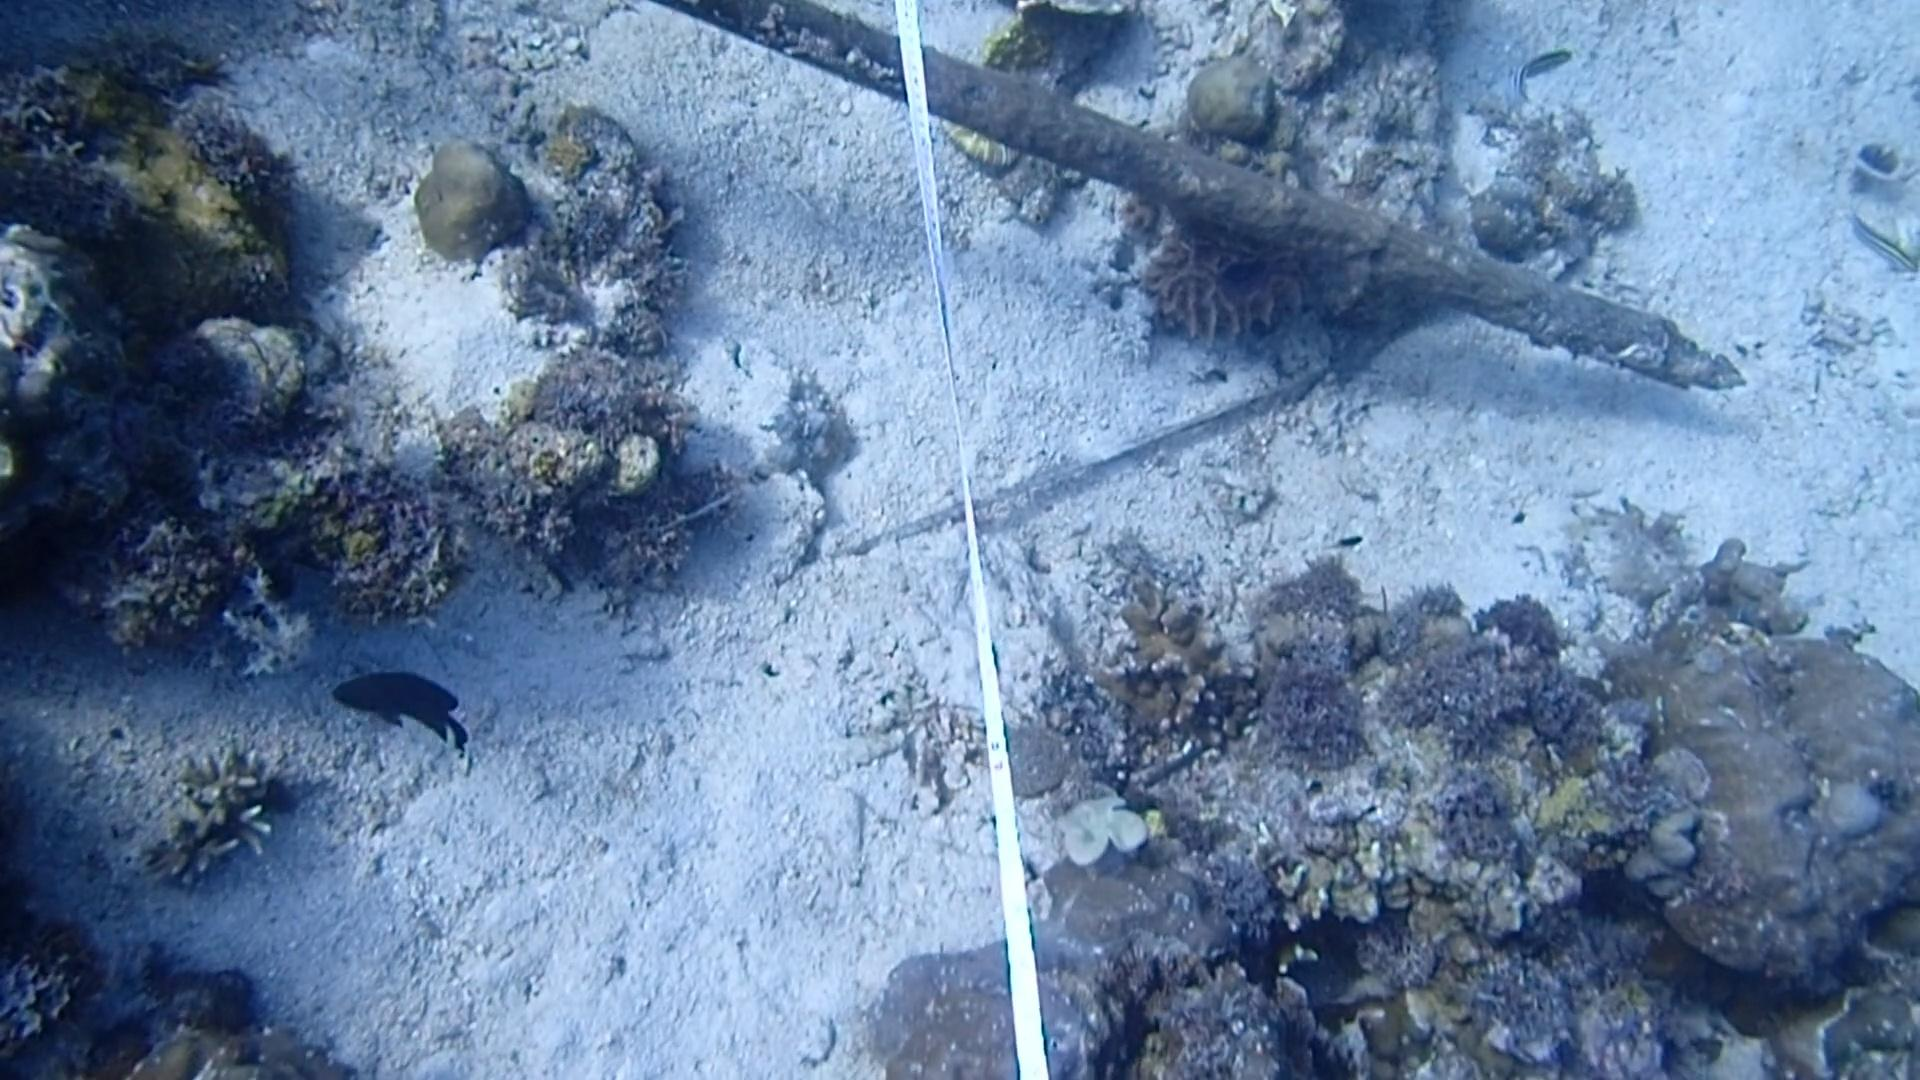Dark Fish: (322, 662, 476, 748)
Striped Fish: (1850, 211, 1920, 284), (1502, 36, 1571, 108)
